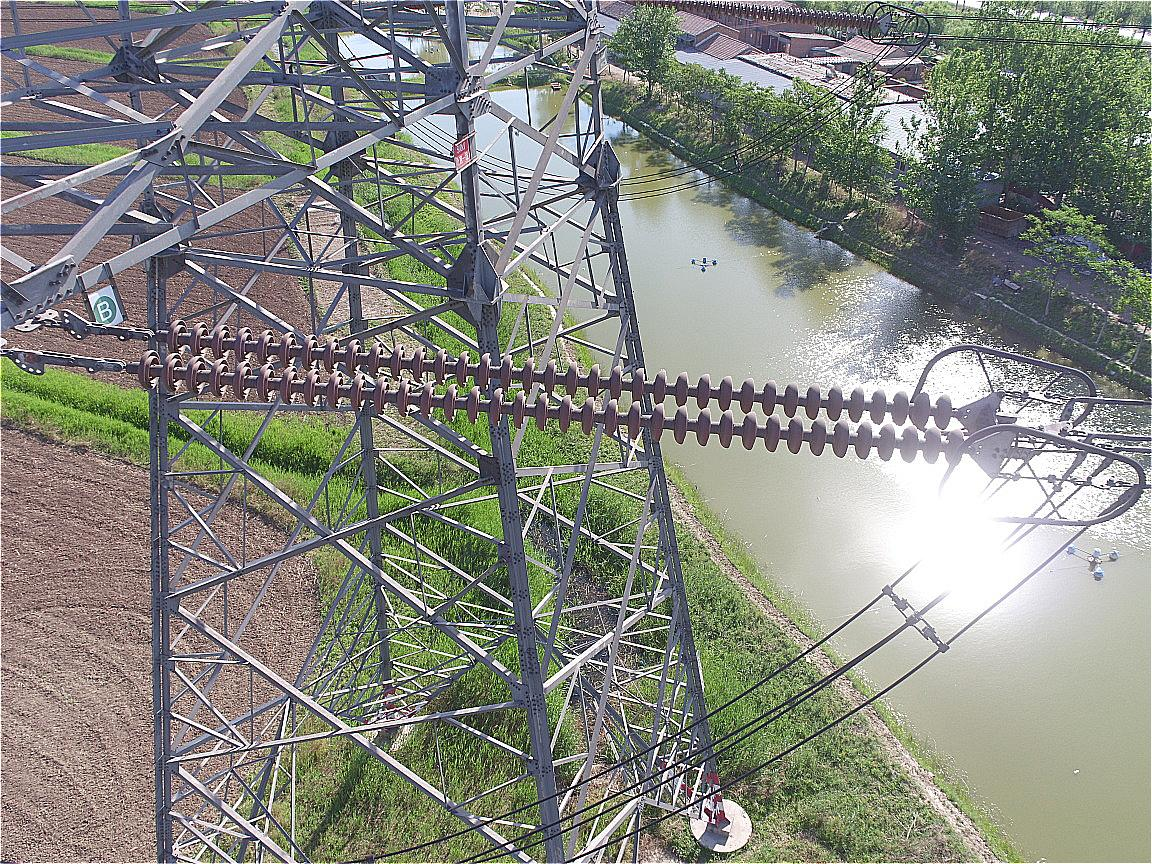insultor1: (138, 319, 966, 467)
